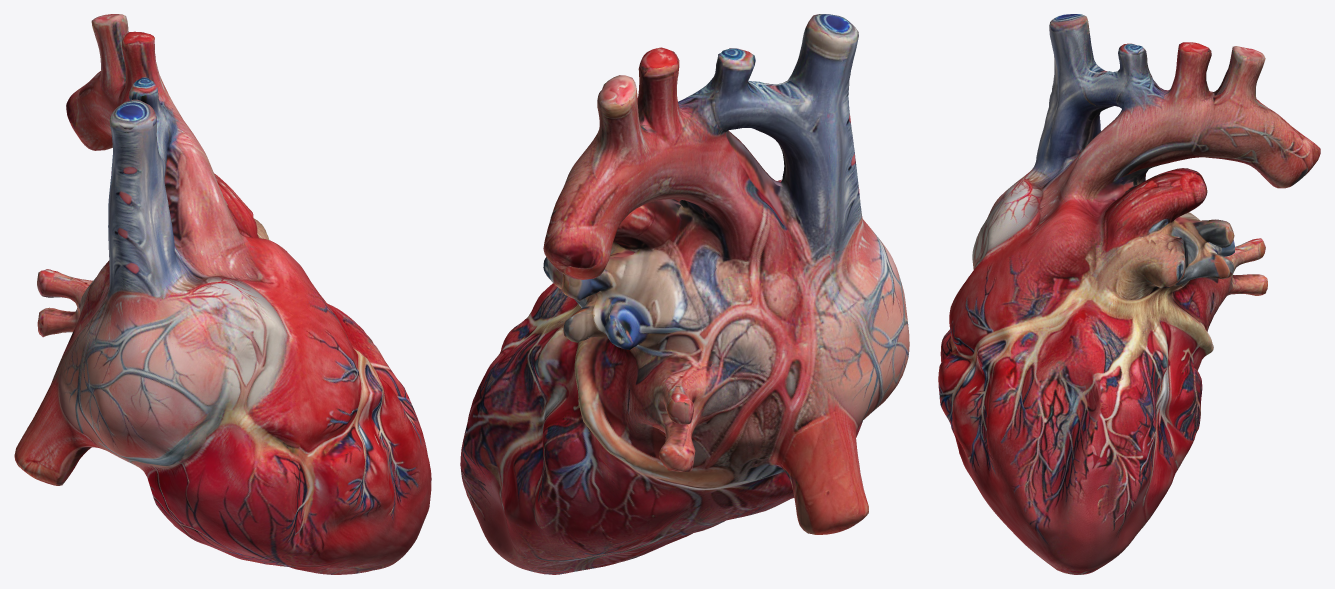
File: heart-1.glb
3 views of the same model, side by side, from view 1: azimuth 30°, elevation 25°; view 2: azimuth 150°, elevation 25°; view 3: azimuth 270°, elevation 25° (orthographic). The views are drawn at different scales.
Size of the model in its own units: 0.8677 by 1.2 by 0.9123.
1 material, 1 textured.
